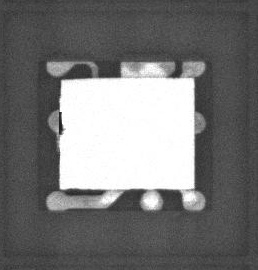DIE_BROKEN: (58, 111, 65, 137)
